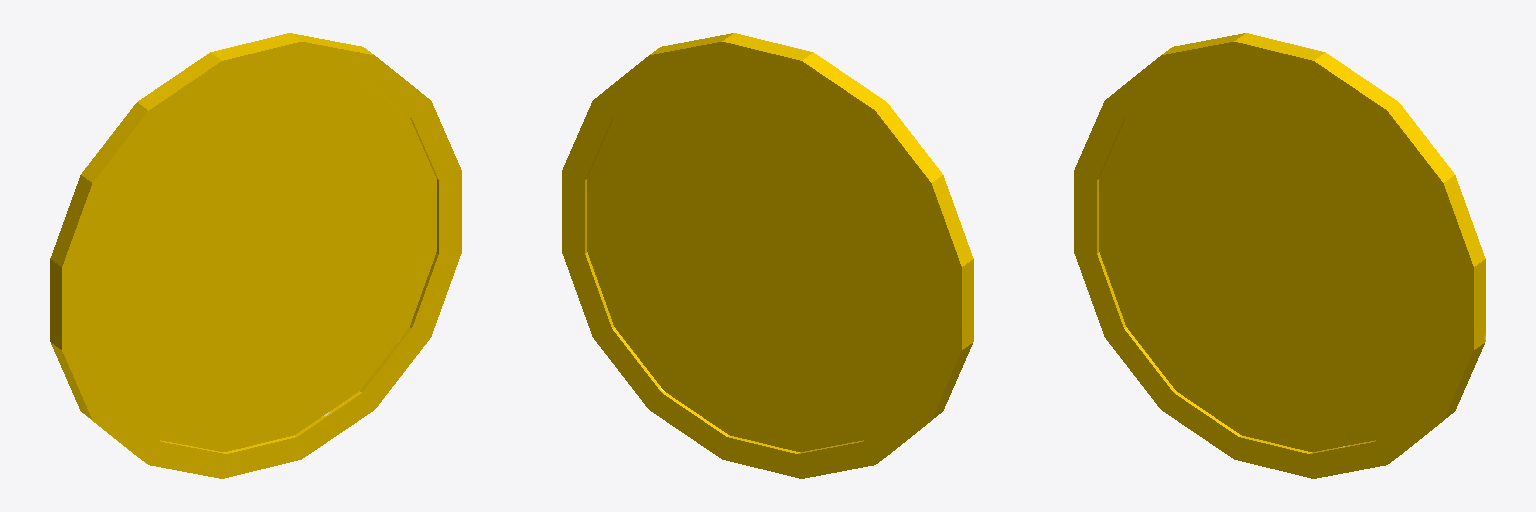
The picture shows the model from 3 angles: view 1: azimuth 30°, elevation 25°; view 2: azimuth 150°, elevation 25°; view 3: azimuth 330°, elevation 25°; orthographic projection.
Visible parts, largest first — view 1: Circle; view 2: Circle; view 3: Circle.
Boxes of the visible parts, box(x1,y1,x2,y2) form: Circle: box(50, 33, 461, 478); Circle: box(562, 33, 973, 478); Circle: box(1074, 33, 1485, 478).
Bounding box in the file's own units: 1.96 × 1.96 × 0.1.
Materials: 1 (1 with a texture image).